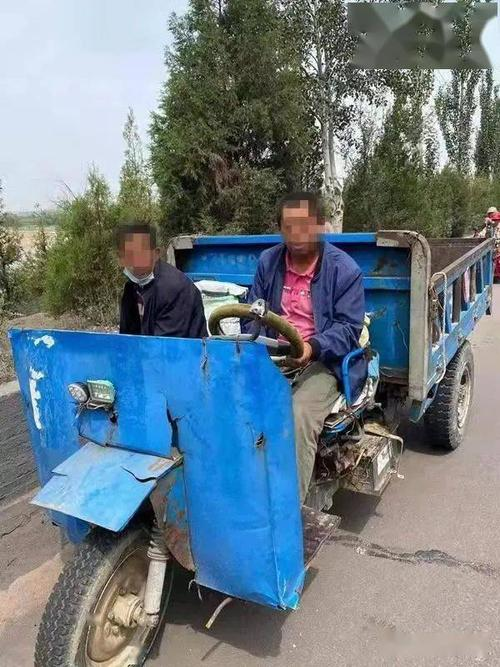driver: (245, 195, 354, 489)
overloading: (18, 185, 494, 667)
passenger: (99, 219, 200, 346)
